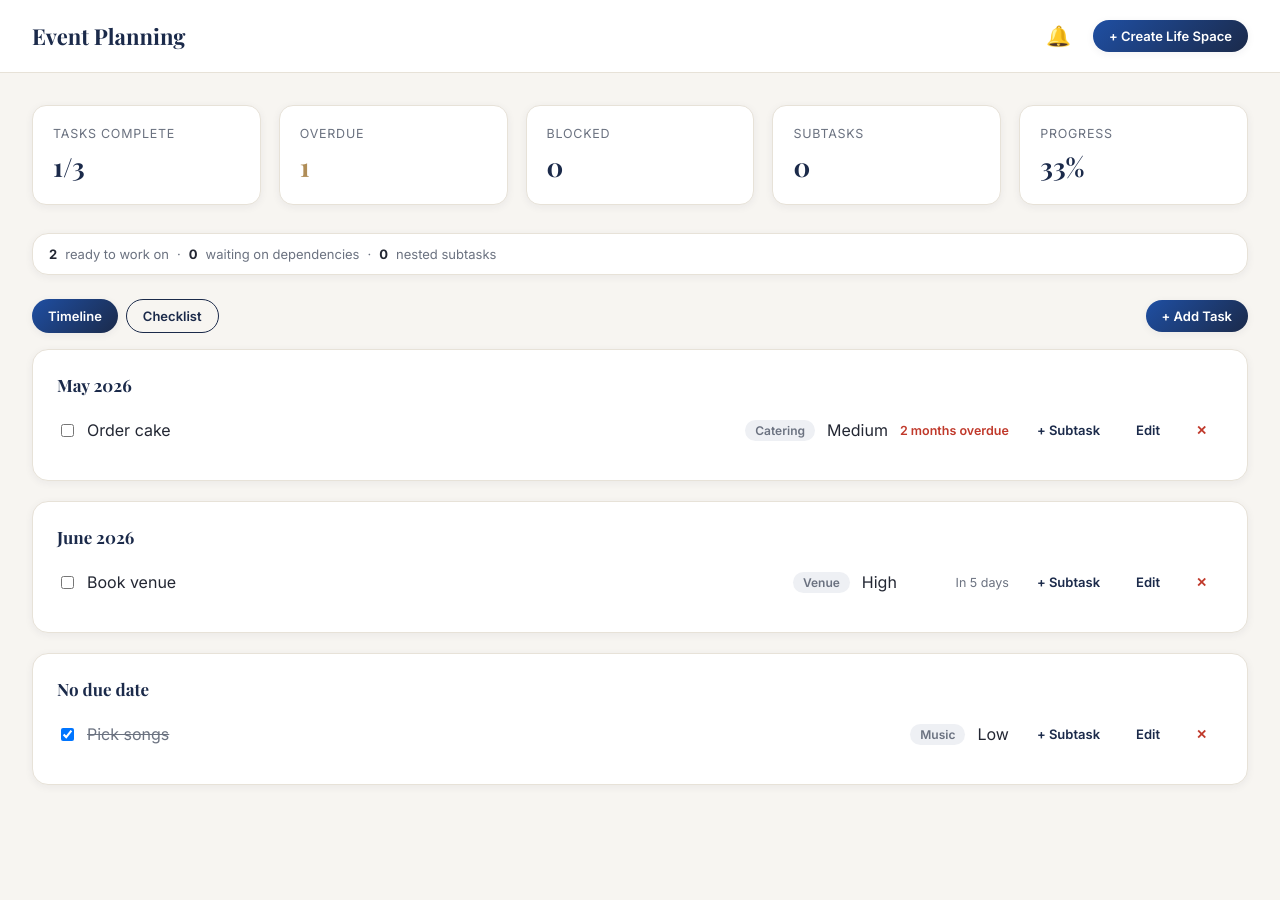
Planning — edit save › closes the modal after a successful save
Expected: the text "Book venue" is shown, [87,572,176,592]
Click the button "Edit" in the row of "Book venue": (1148, 582) [1120,566,1176,598]
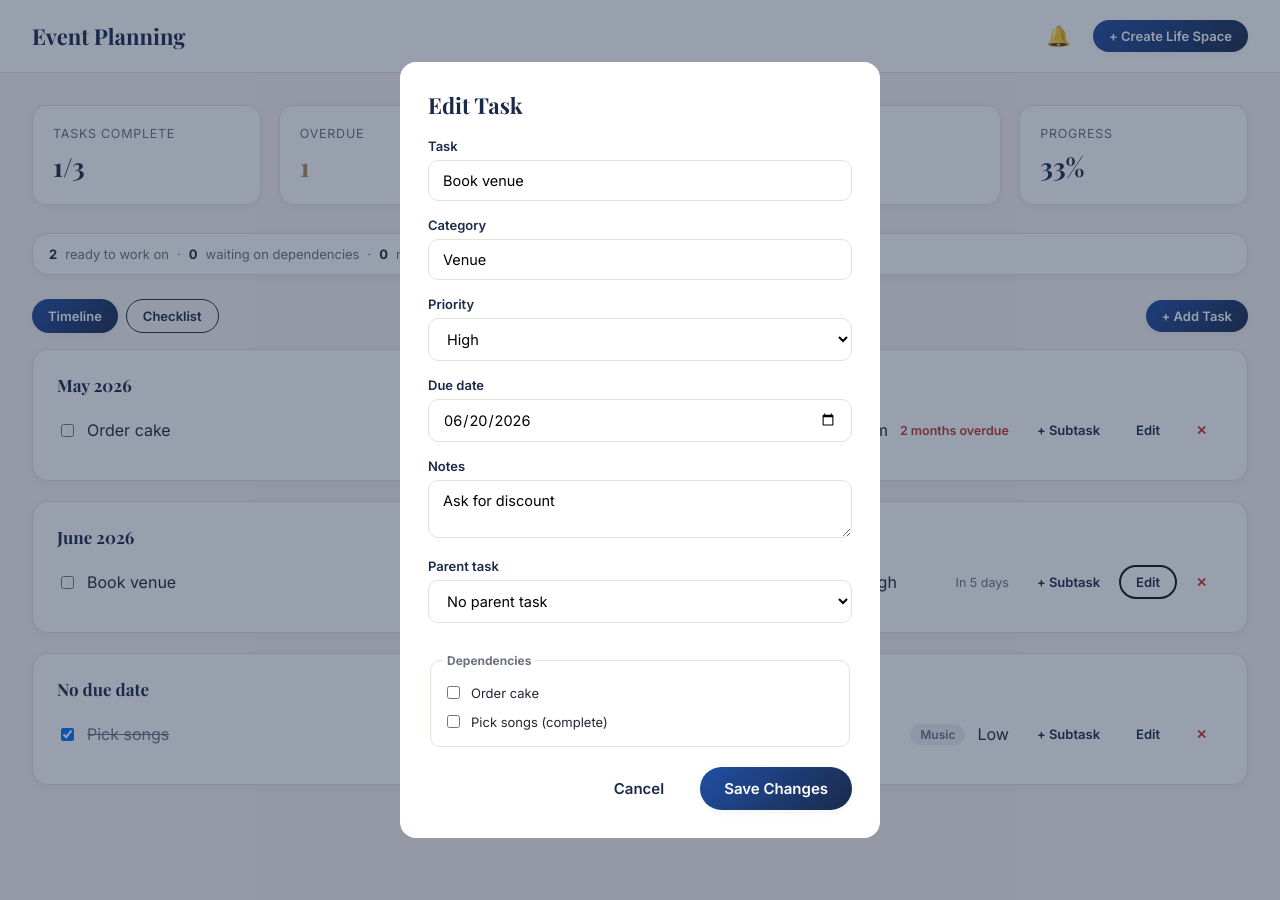
Click the button "Save Changes": (776, 789) [700,767,852,810]
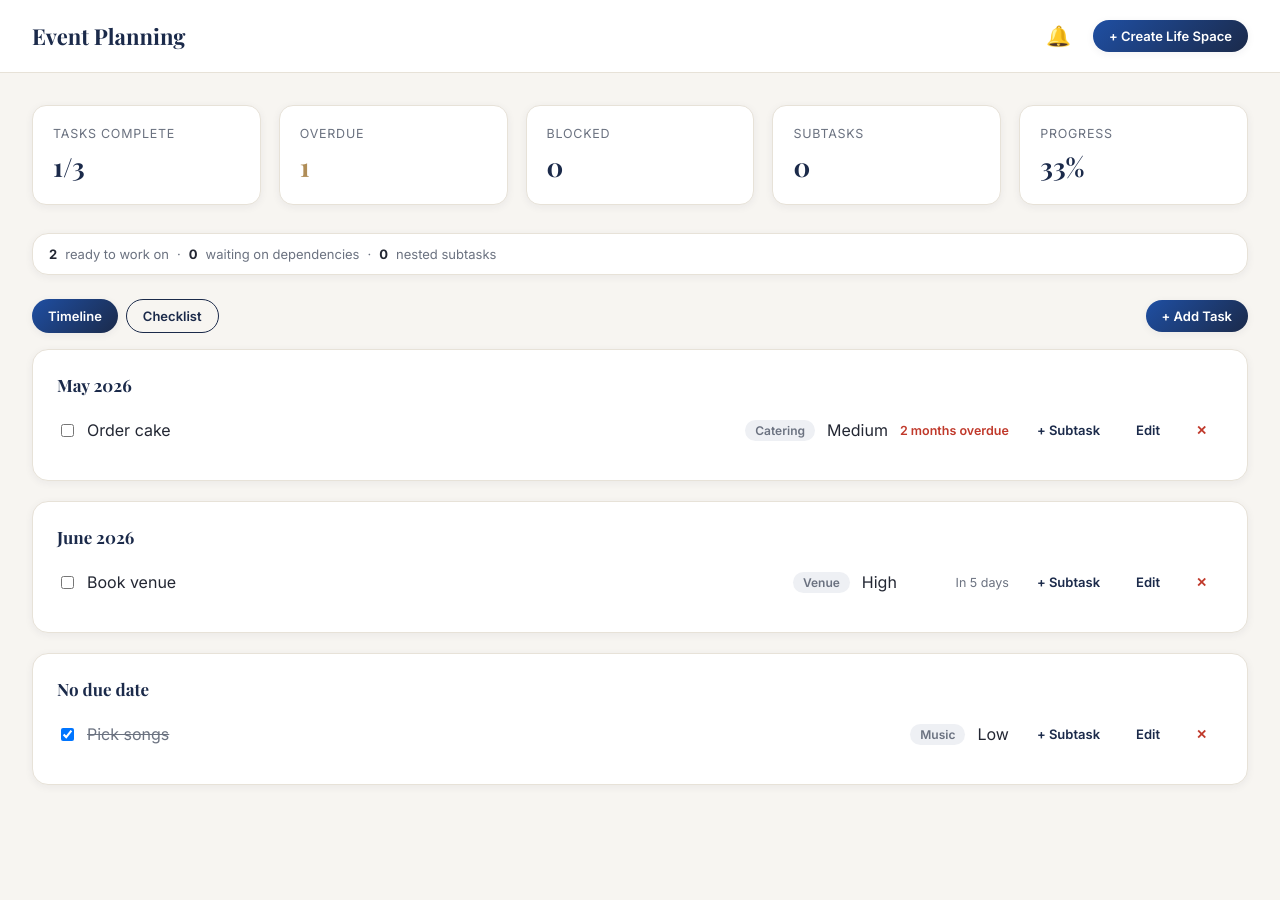
Expected: the heading "Edit Task" is gone
